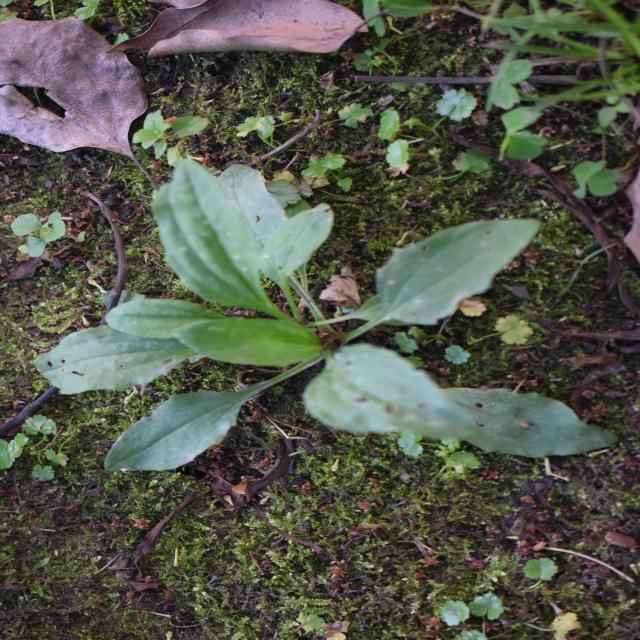plantain: (158, 61, 458, 537)
